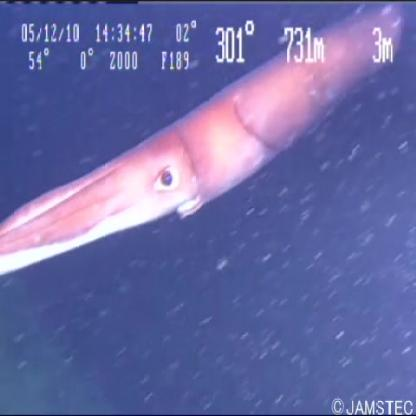Bio: (1, 3, 406, 278)
